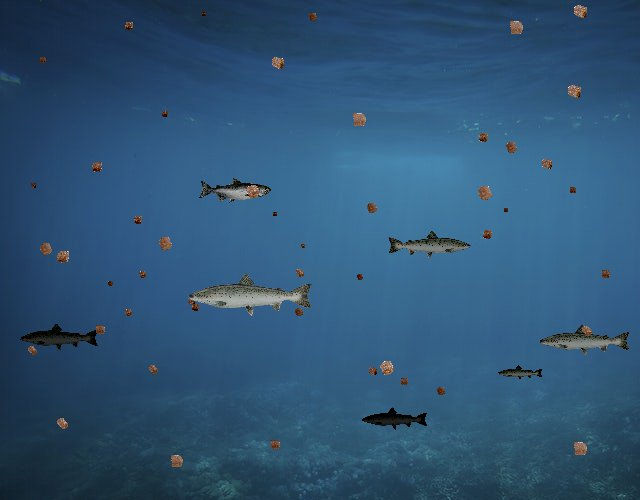Fish: (186, 271, 315, 317), (539, 324, 633, 358), (386, 229, 472, 260), (19, 322, 100, 351), (199, 178, 272, 204), (362, 407, 430, 431), (497, 364, 544, 381)
Pellet: (238, 178, 266, 206), (264, 50, 291, 77), (50, 411, 75, 436), (27, 179, 39, 191)
